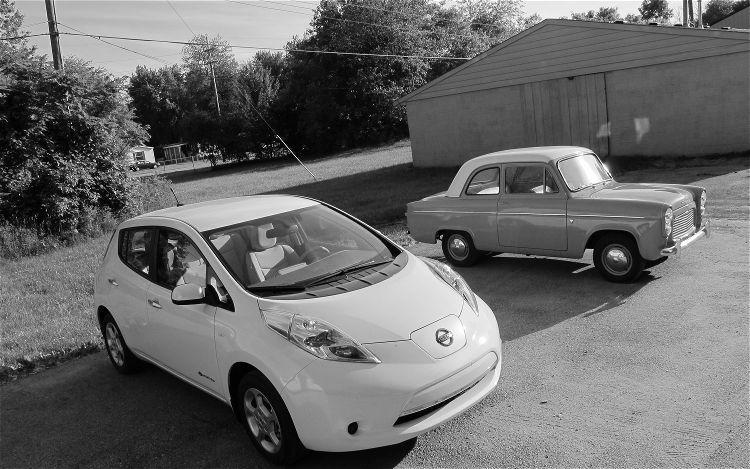car: (95, 194, 505, 464)
